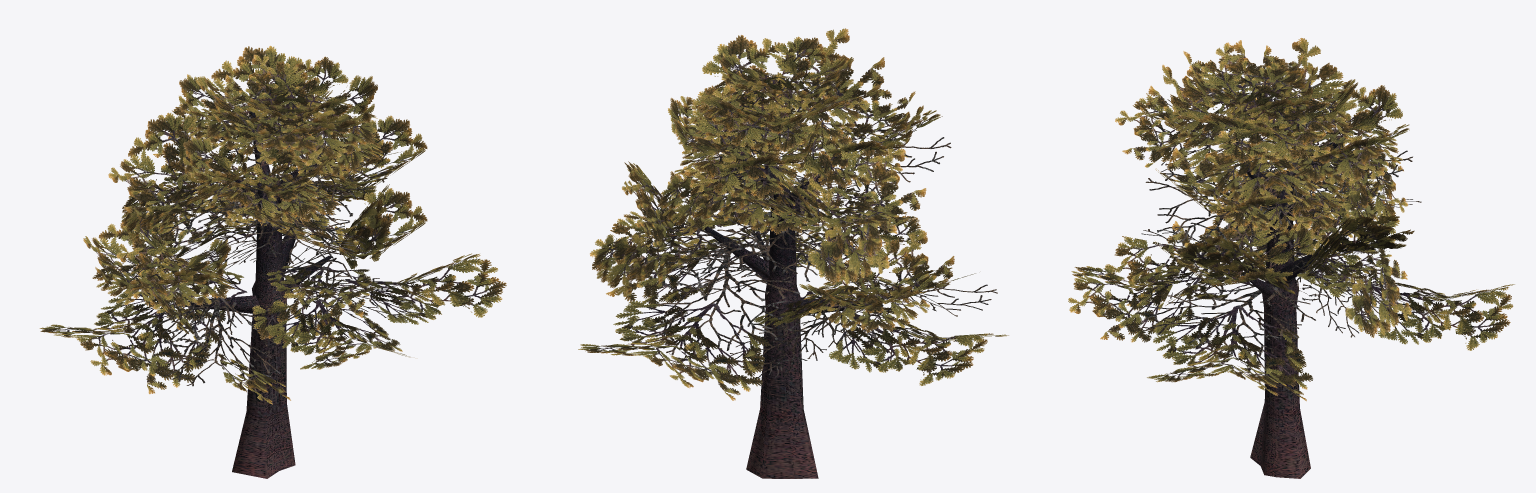
The model's file is flora_tree_oak_hungarian_autumn.glb.
3 views of the same model, side by side, from view 1: azimuth 30°, elevation 25°; view 2: azimuth 150°, elevation 25°; view 3: azimuth 270°, elevation 25° (orthographic).
Parts seen in each view (by area): view 1: flora_tree_oak_hungarian_autumn_part0, flora_tree_oak_hungarian_autumn_part1; view 2: flora_tree_oak_hungarian_autumn_part0, flora_tree_oak_hungarian_autumn_part1; view 3: flora_tree_oak_hungarian_autumn_part0, flora_tree_oak_hungarian_autumn_part1.
Boxes of the visible parts, x1,y1,x2,y2 form: flora_tree_oak_hungarian_autumn_part0: (39, 45, 506, 478); flora_tree_oak_hungarian_autumn_part1: (120, 120, 420, 386); flora_tree_oak_hungarian_autumn_part0: (578, 28, 1008, 478); flora_tree_oak_hungarian_autumn_part1: (650, 106, 997, 378); flora_tree_oak_hungarian_autumn_part0: (1068, 38, 1514, 478); flora_tree_oak_hungarian_autumn_part1: (1141, 99, 1438, 358).
Size of the model in its own units: 21.34 by 19.61 by 19.89.
Materials: 2 (2 with a texture image).
